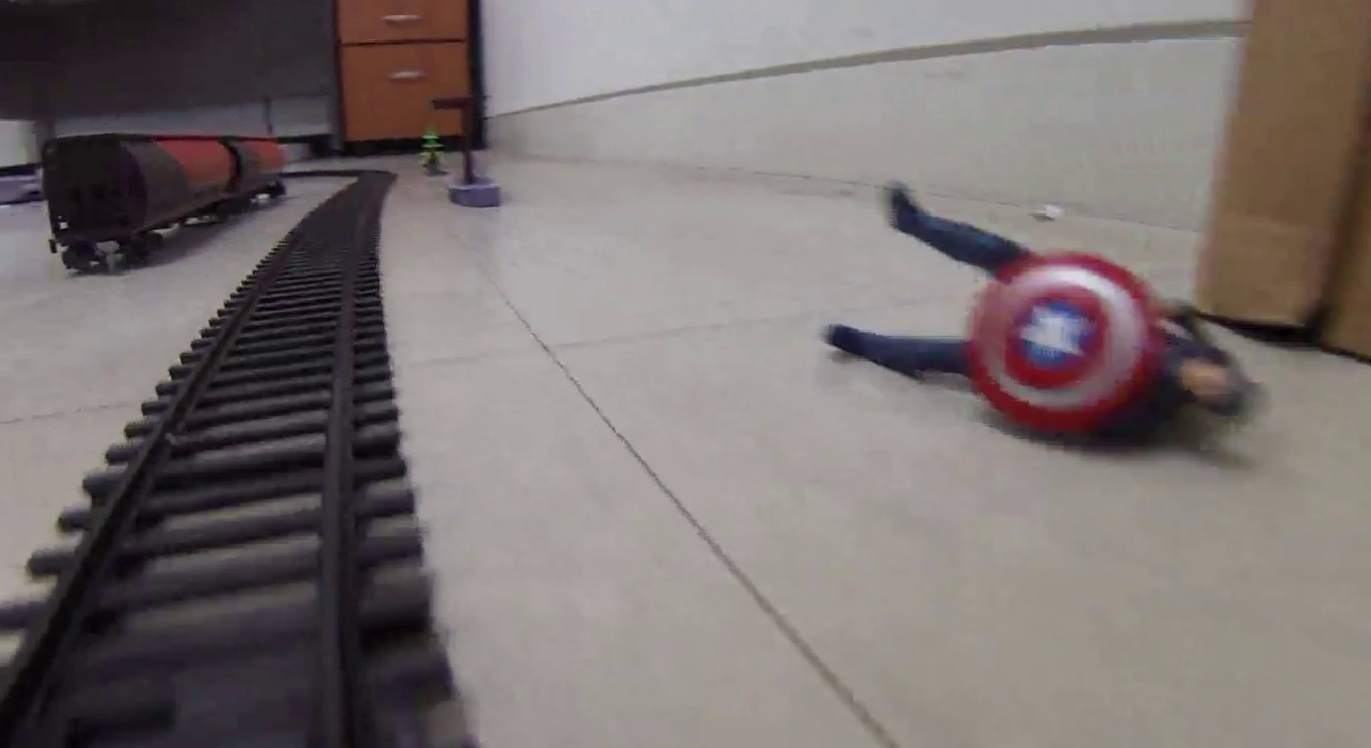people: (831, 189, 1258, 450)
